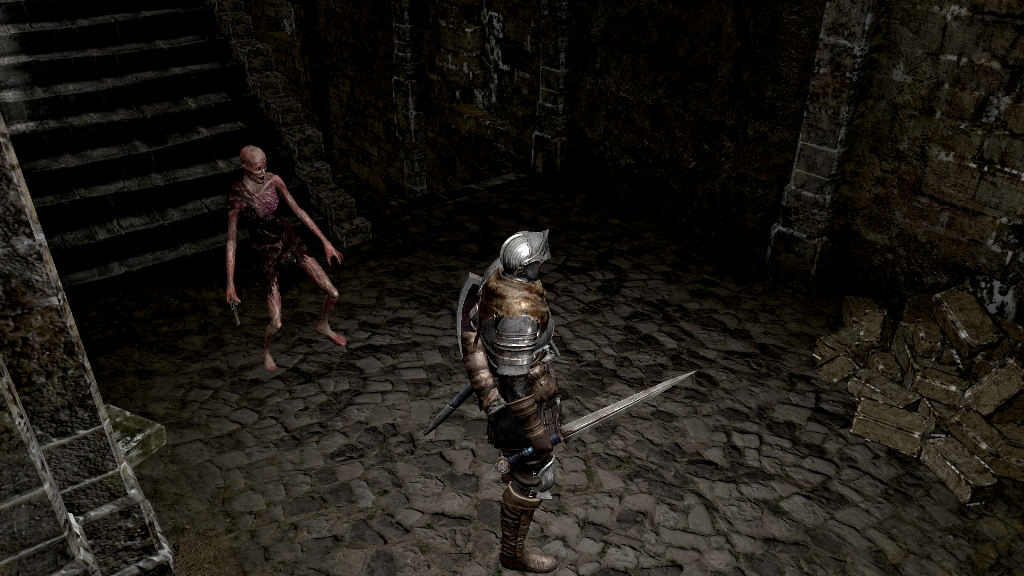hollow: (225, 145, 348, 372)
player: (456, 224, 701, 573)
